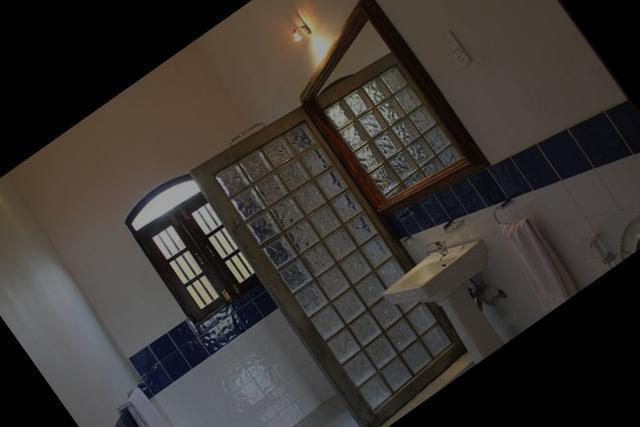Ducha: (169, 93, 475, 427)
Lavamanos: (372, 209, 539, 382)
